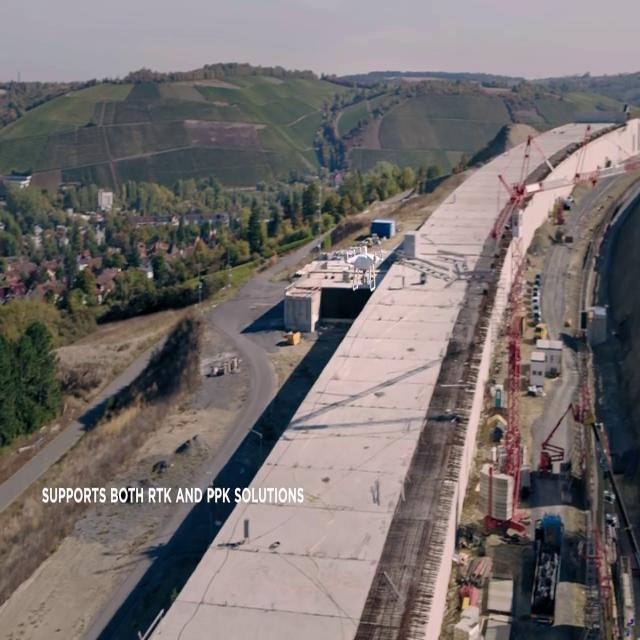drone: (338, 242, 388, 292)
